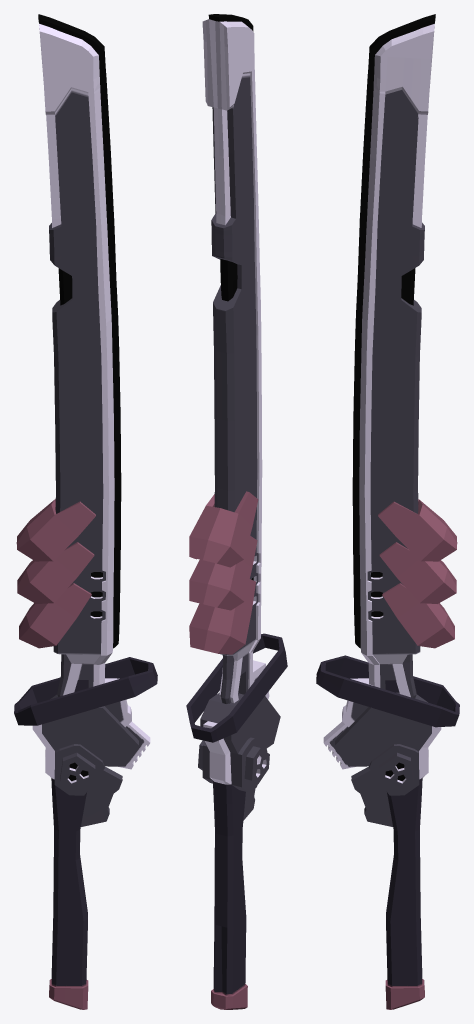
Rendered from model_PlayerSword_v1.fbx.
The picture shows the model from 3 angles, left to right: view 1: azimuth 90°, elevation 25°; view 2: azimuth 150°, elevation 25°; view 3: azimuth 270°, elevation 25°; orthographic projection.
Parts seen in each view (by area): view 1: Blade_main.003, sword acc_3.011, MainBody.005, Body2.009; view 2: Blade_main.003, sword acc_3.011, MainBody.005, Body2.009; view 3: Blade_main.003, sword acc_3.011, MainBody.005, Body2.009.
Boxes of the visible parts, x1,y1,x2,y2 form: Blade_main.003: (38, 14, 121, 696); sword acc_3.011: (14, 499, 157, 725); MainBody.005: (32, 694, 138, 1009); Body2.009: (60, 678, 150, 826); Blade_main.003: (202, 14, 262, 703); sword acc_3.011: (186, 491, 287, 742); MainBody.005: (200, 692, 280, 1009); Body2.009: (198, 660, 269, 820); Blade_main.003: (352, 14, 435, 698); sword acc_3.011: (316, 499, 459, 727); MainBody.005: (335, 692, 441, 1009); Body2.009: (323, 678, 413, 826).
Bounding box in the file's own units: 43.21 × 770 × 101.
